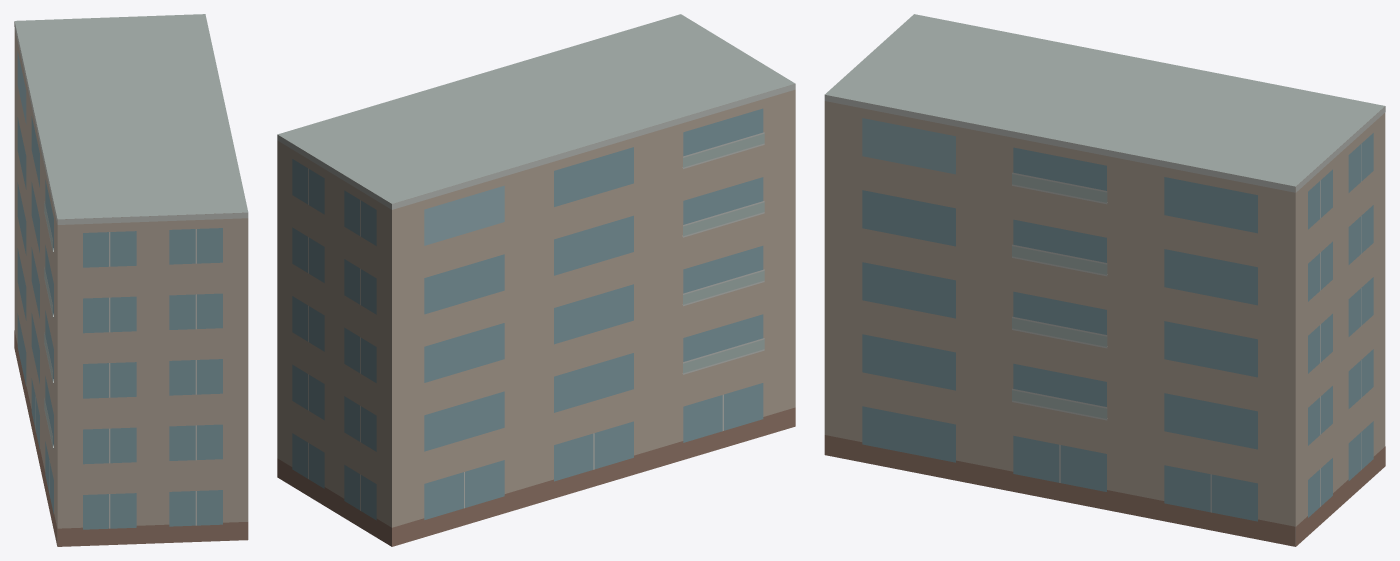
Rendered from survey-upis-32564806.glb.
3 renders of one model, left to right at view 1: azimuth 30°, elevation 25°; view 2: azimuth 150°, elevation 25°; view 3: azimuth 270°, elevation 25°, orthographic. The views are drawn at different scales.
Visible parts, largest first — view 1: survey-upis-32564806.tmp; view 2: survey-upis-32564806.tmp; view 3: survey-upis-32564806.tmp.
Part boxes in pixels (x1,y1,x2,y2): survey-upis-32564806.tmp: (14, 14, 248, 546); survey-upis-32564806.tmp: (277, 14, 795, 546); survey-upis-32564806.tmp: (824, 14, 1385, 546).
Bounding box in the file's own units: 14.44 × 14.05 × 19.83.
